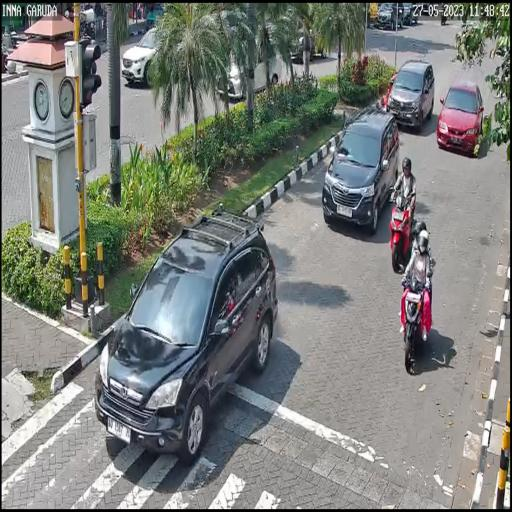mobil: (96, 210, 278, 454), (323, 108, 398, 236), (437, 78, 484, 158), (388, 54, 434, 130)
motor: (398, 264, 433, 374), (388, 186, 416, 272)
